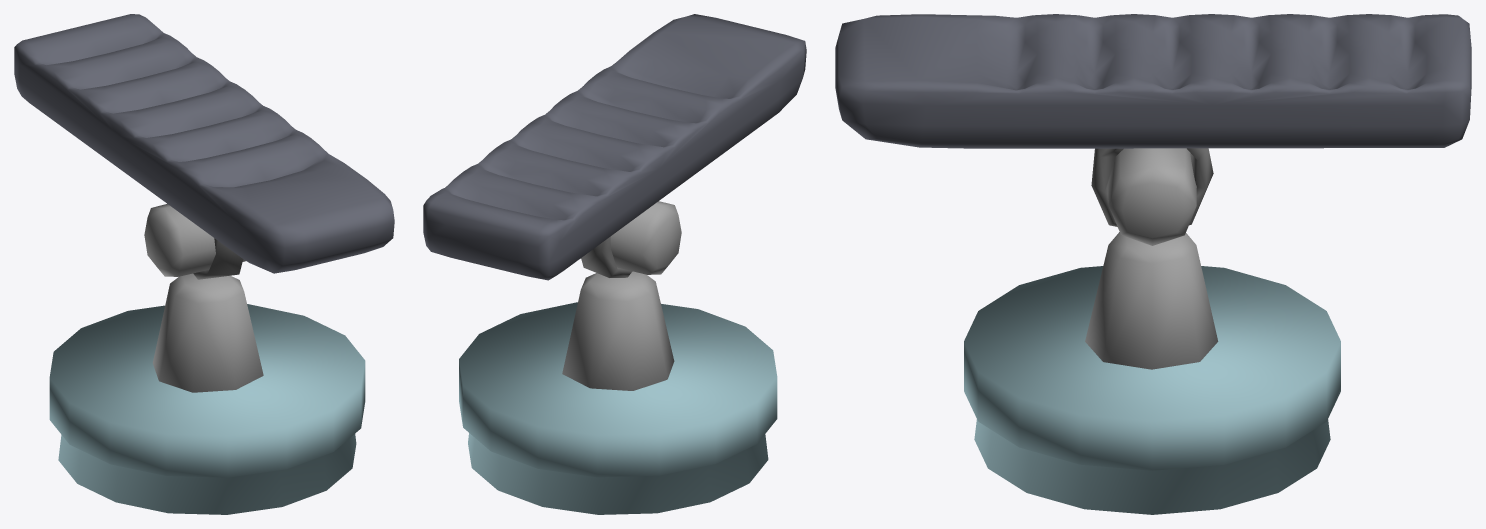
The model's file is rocketlauncher_level1.fbx.
3 renders of one model, left to right at view 1: azimuth 30°, elevation 25°; view 2: azimuth 150°, elevation 25°; view 3: azimuth 270°, elevation 25°, orthographic. The views are drawn at different scales.
Parts seen in each view (by area): view 1: settlement_place, powersupply, holder2, holder3, holder; view 2: settlement_place, powersupply, holder2, holder3, holder; view 3: settlement_place, powersupply, holder2, holder3, holder.
Boxes of the visible parts, box(x1,y1,x2,y2) form: settlement_place: box(14, 14, 394, 273); powersupply: box(49, 304, 365, 514); holder2: box(152, 273, 263, 392); holder3: box(144, 204, 245, 276); holder: box(193, 238, 243, 279); settlement_place: box(423, 14, 806, 280); powersupply: box(459, 302, 777, 514); holder2: box(562, 271, 674, 390); holder3: box(580, 201, 681, 274); holder: box(581, 236, 632, 277); settlement_place: box(835, 14, 1471, 148); powersupply: box(964, 266, 1340, 514); holder2: box(1085, 232, 1218, 369); holder3: box(1108, 148, 1196, 245); holder: box(1091, 148, 1213, 226).
Size of the model in its own units: 36.88 by 42.21 by 62.18.
